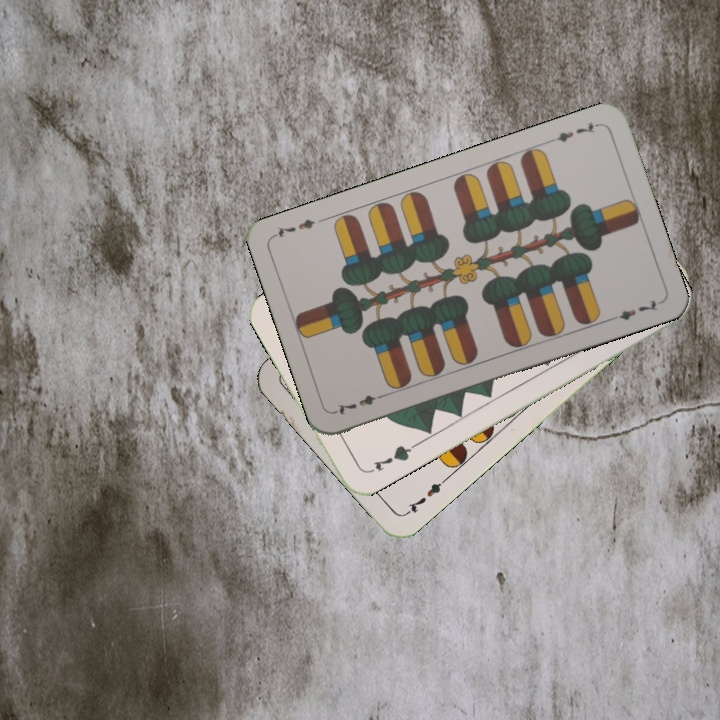E7: (401, 474, 450, 518), (331, 389, 388, 418), (545, 118, 602, 146)
G7: (363, 441, 417, 476)
